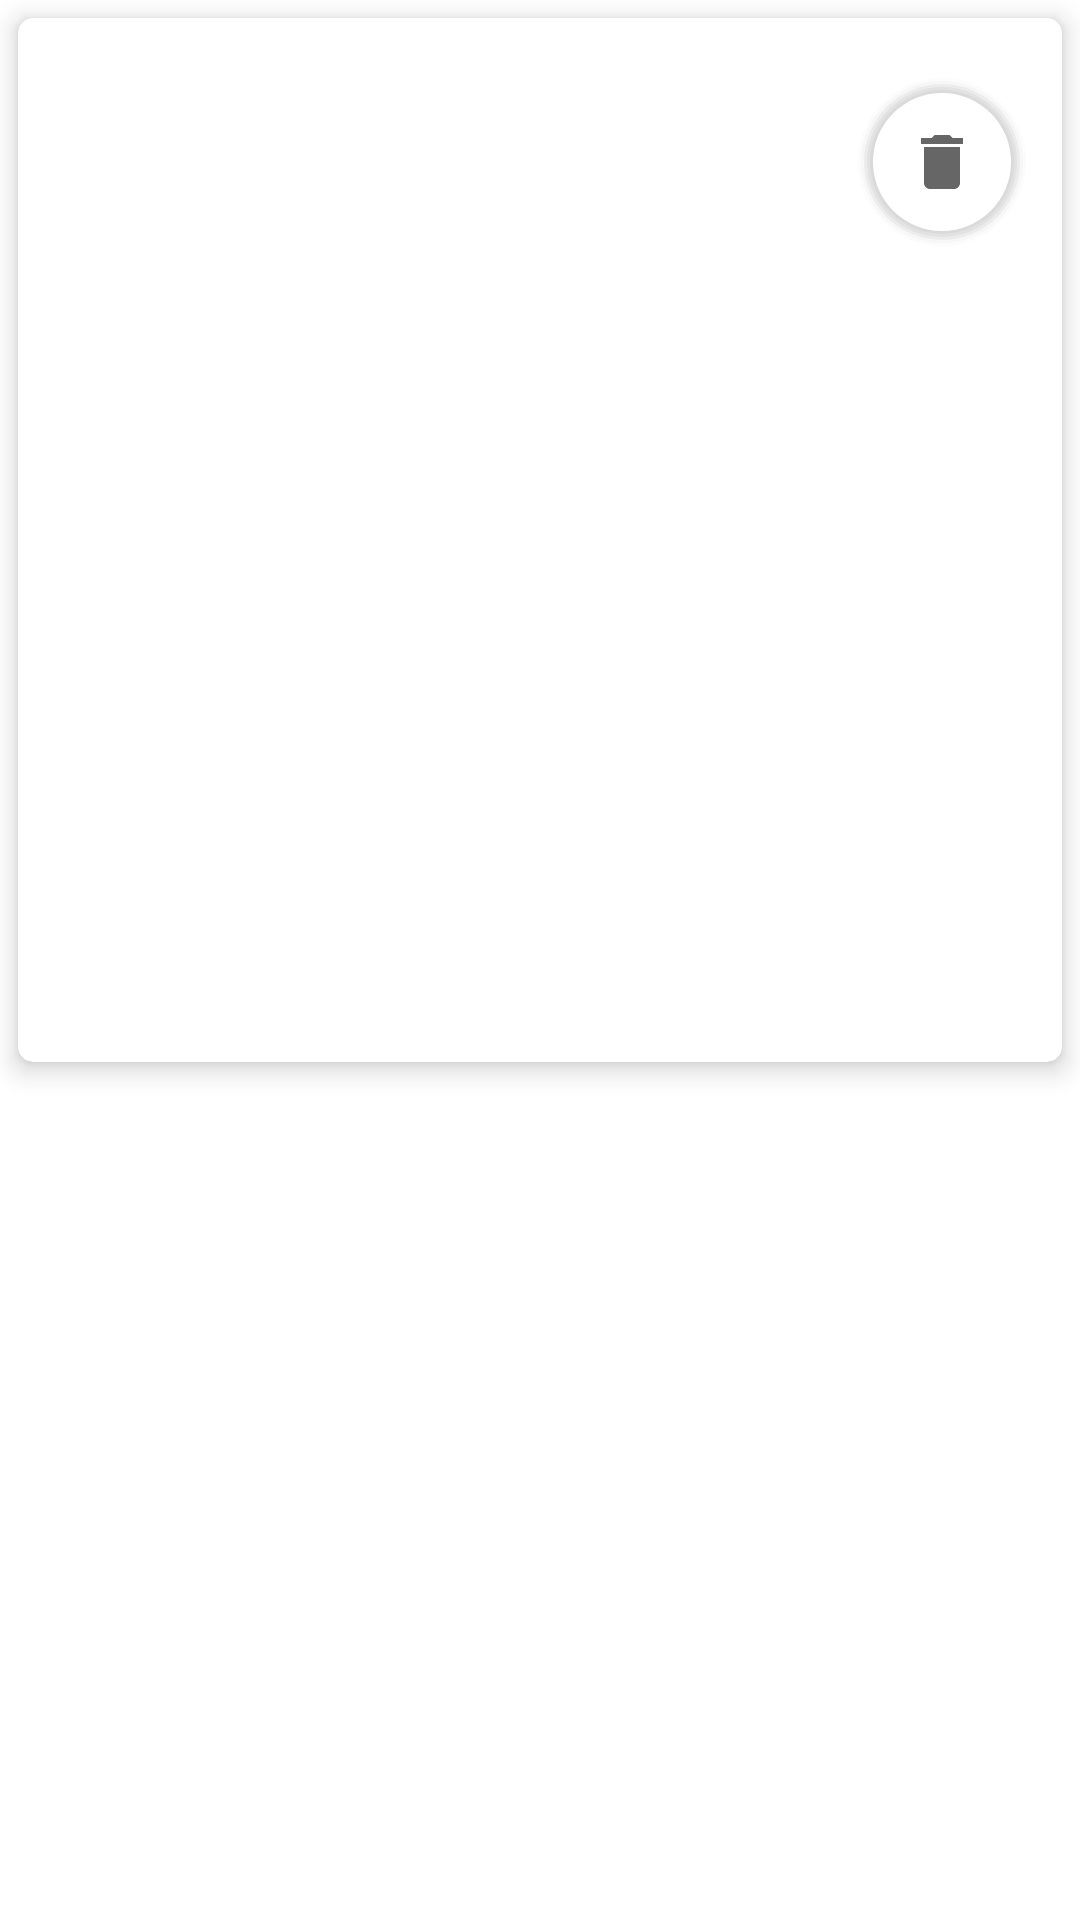

Where icons sit on this 1080×1920 app screen, as (x1, y1, x2, y2):
delete: (867, 87, 1017, 237)
